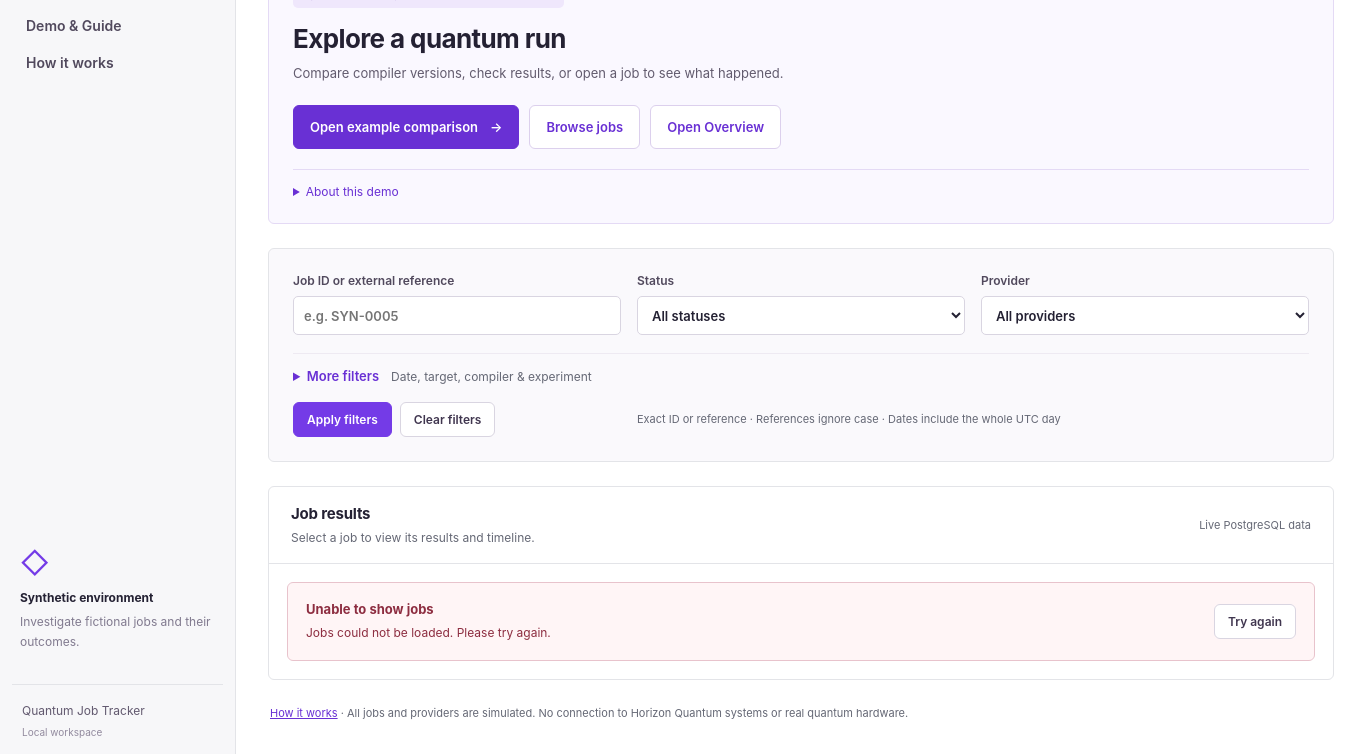
jobs page › handles network failure and retries successfully
(page scrolled)
Expected: the message shows "Unable to show jobs", [306,600,434,616]
Click the button "Try again" at [1255, 621], box [1214,604,1296,639]
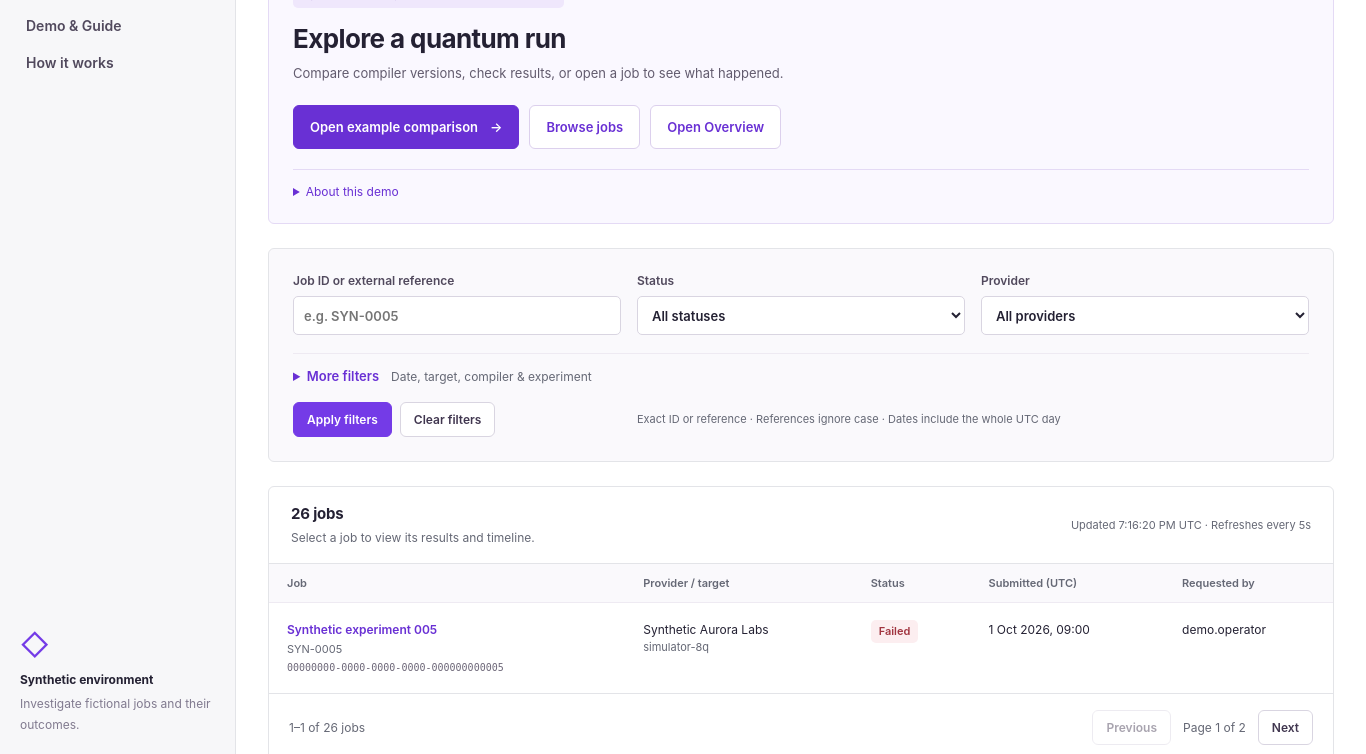
Expected: the text "SYN-0005" is shown, [287,642,342,656]
